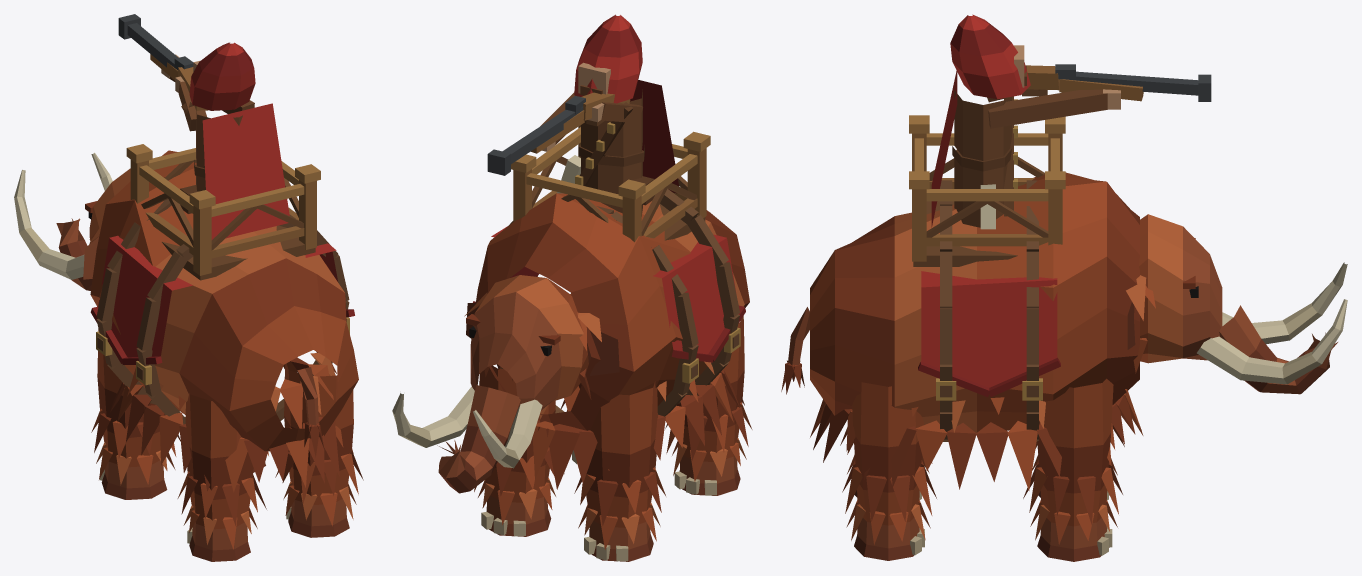
The model's file is ravager.glb.
3 views of the same model, side by side, from view 1: azimuth 30°, elevation 25°; view 2: azimuth 150°, elevation 25°; view 3: azimuth 270°, elevation 25° (orthographic). The views are drawn at different scales.
Visible parts, largest first — view 1: Body, LegBL, LegBR, LegFL, Tail; view 2: Body, LegFL, LegBL, LegFR; view 3: Body, LegFR, LegBR, Tail.
Boxes of the visible parts, bbox=[...] form: Body: bbox=[14, 14, 358, 492]; LegBL: bbox=[177, 393, 266, 561]; LegBR: bbox=[275, 363, 363, 537]; LegFL: bbox=[91, 329, 180, 499]; Tail: bbox=[297, 367, 324, 457]; Body: bbox=[392, 14, 749, 493]; LegFL: bbox=[574, 381, 665, 561]; LegBL: bbox=[665, 316, 752, 495]; LegFR: bbox=[474, 365, 564, 536]; Body: bbox=[810, 14, 1347, 490]; LegFR: bbox=[1023, 378, 1122, 561]; LegBR: bbox=[842, 381, 936, 560]; Tail: bbox=[781, 307, 809, 394].
Size of the model in its own units: 1.26 by 2.7 by 2.75.
